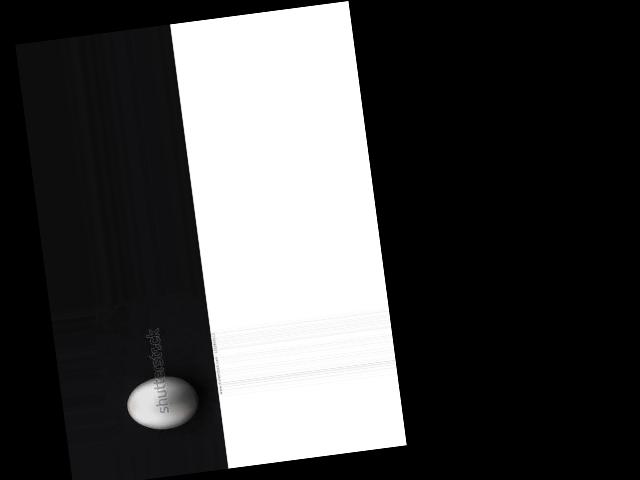egg: (123, 373, 201, 433)
